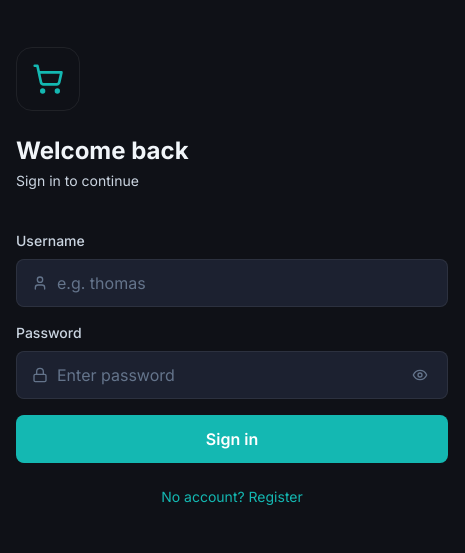
LoginScreen › shows wrong password error from signIn
Type "sara" into the field labelled "Username" at (232, 283), box [16,259,448,307]
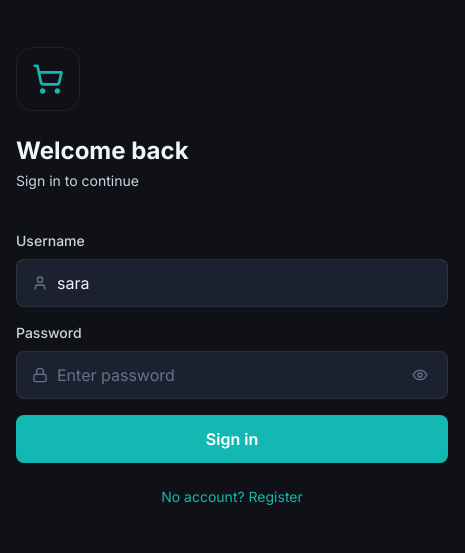
Type "wrongpass" into the password field labelled "Password" at (232, 375), box [16,351,448,399]
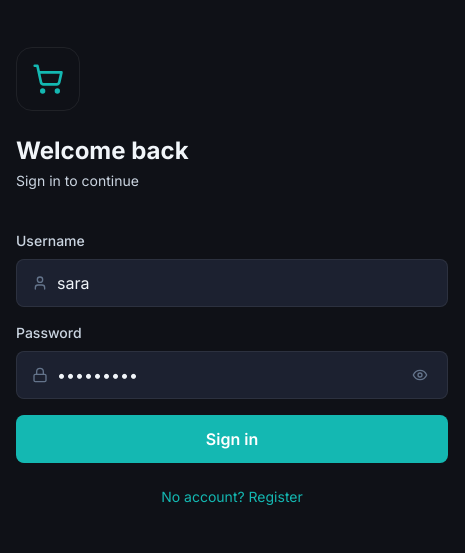
Click the button "Sign in" at (232, 439), box [16,415,448,463]
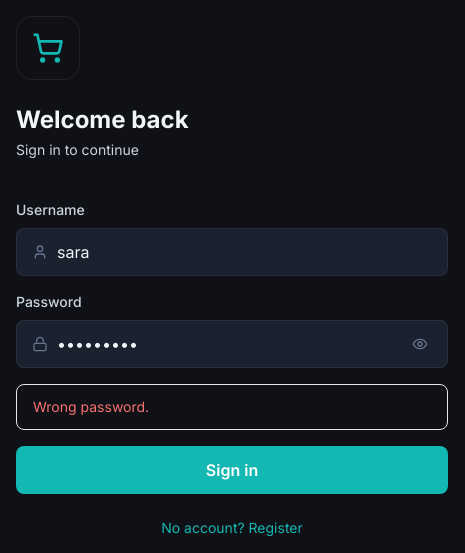
Now the text "Wrong password." is shown, box [16,384,448,430]
